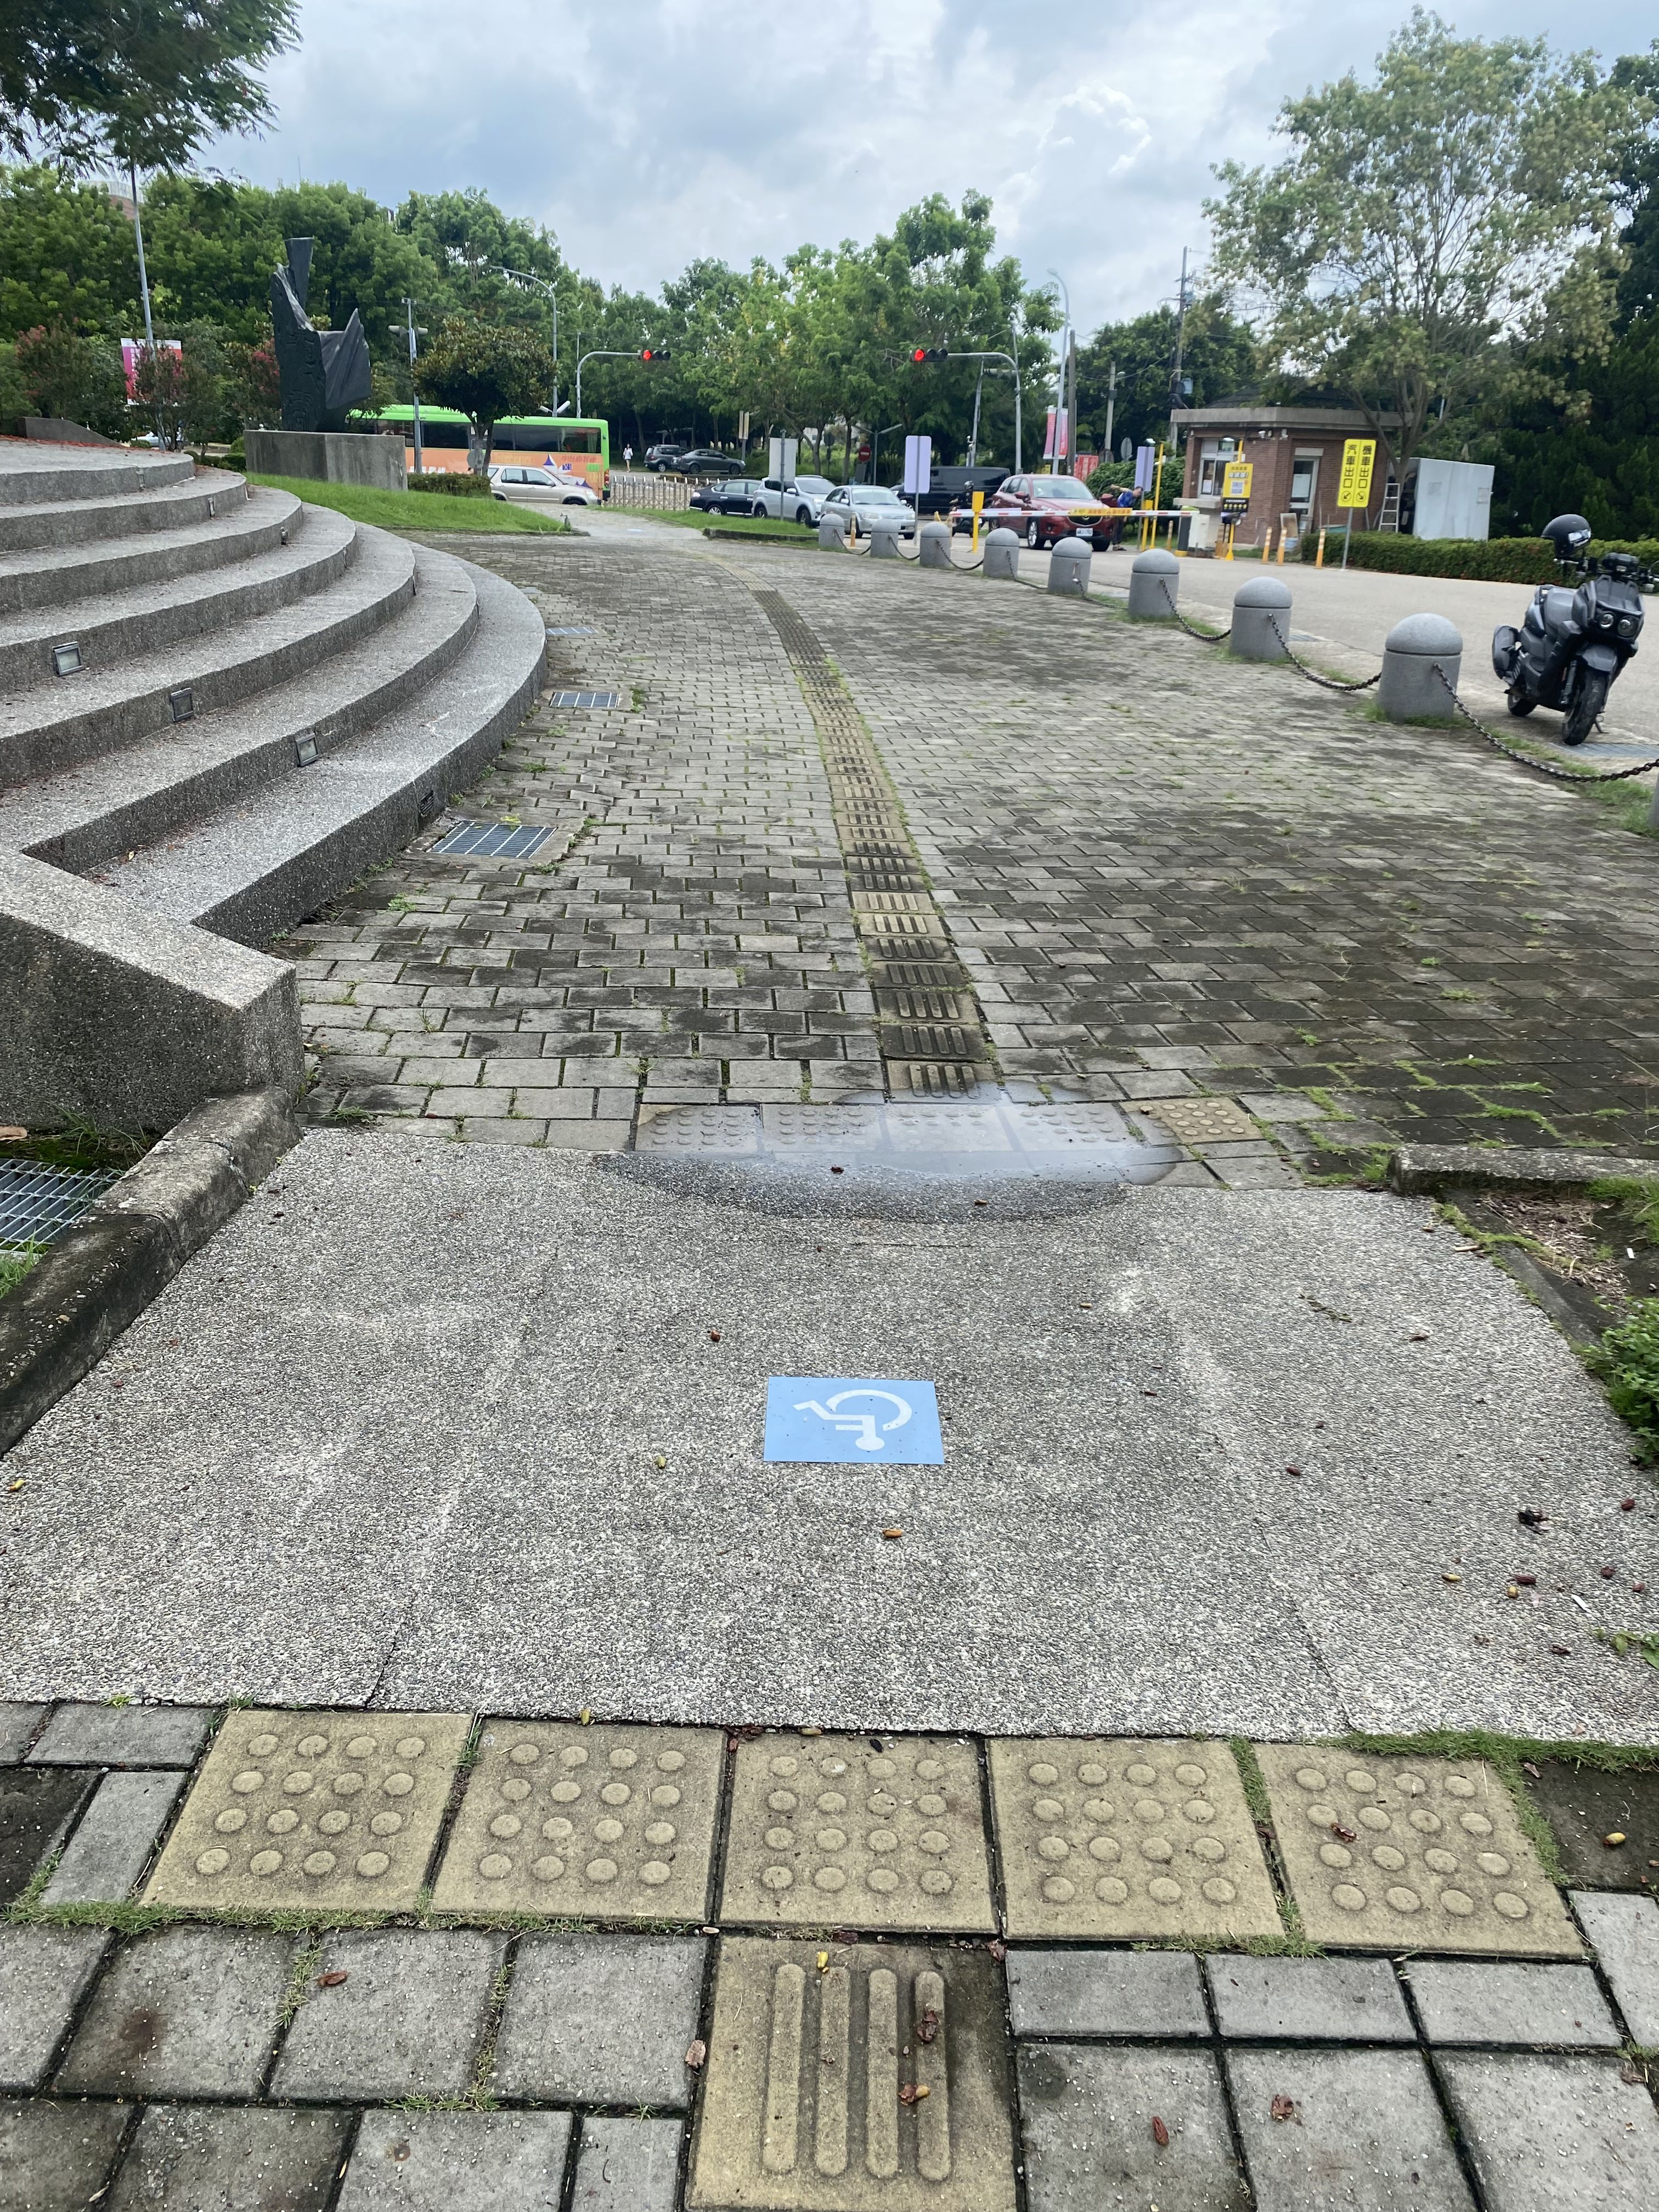0: (12, 1089, 1659, 2212)
sidewalk: (284, 479, 1659, 1578)
